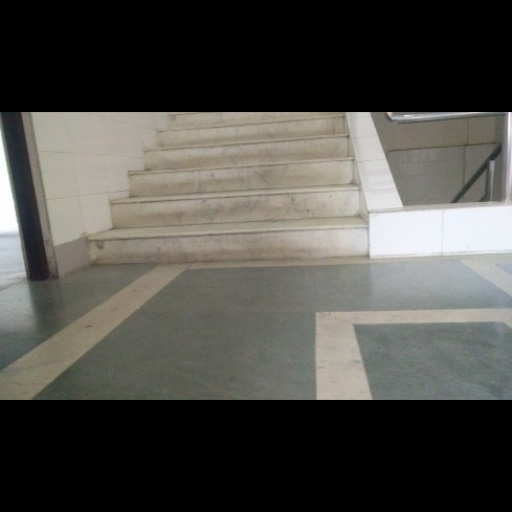Stairs: (89, 113, 368, 263)
